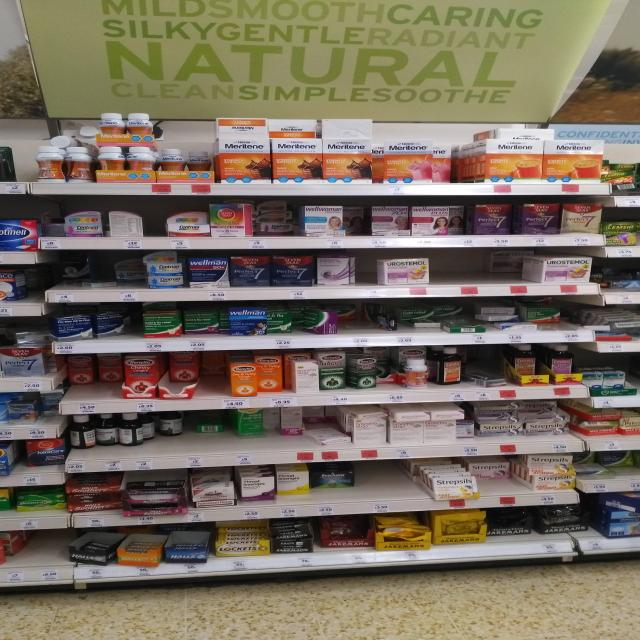empty: (357, 462, 407, 498), (432, 251, 487, 282), (33, 530, 67, 563), (16, 143, 35, 182)
